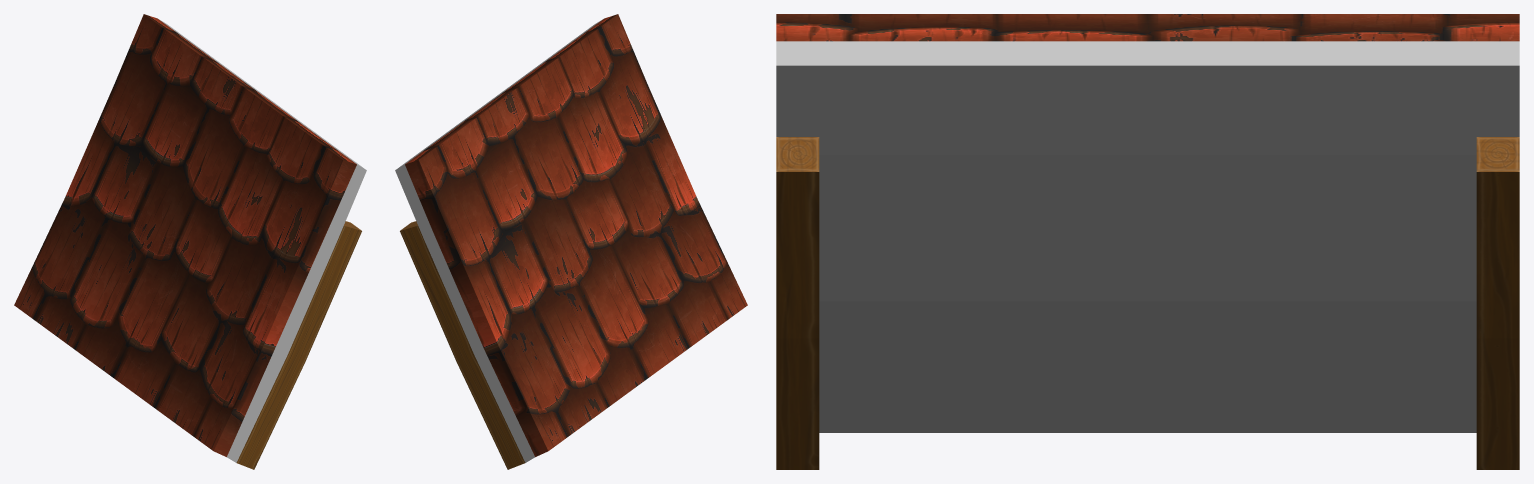
Rendered from SM_House_Roof_01_Tiling_Half_Top.fbx.
3 views of the same model, side by side, from view 1: azimuth 30°, elevation 25°; view 2: azimuth 150°, elevation 25°; view 3: azimuth 270°, elevation 25° (orthographic). The views are drawn at different scales.
Visible parts, largest first — view 1: SM_House_Roof_01_Tiling_Half_Top; view 2: SM_House_Roof_01_Tiling_Half_Top; view 3: SM_House_Roof_01_Tiling_Half_Top.
Boxes of the visible parts, left/top/right/bottom form: SM_House_Roof_01_Tiling_Half_Top: left=14, top=14, right=366, bottom=469; SM_House_Roof_01_Tiling_Half_Top: left=395, top=14, right=747, bottom=469; SM_House_Roof_01_Tiling_Half_Top: left=776, top=14, right=1519, bottom=469.
Bounding box in the file's own units: 1.11 × 1.99 × 2.5.
